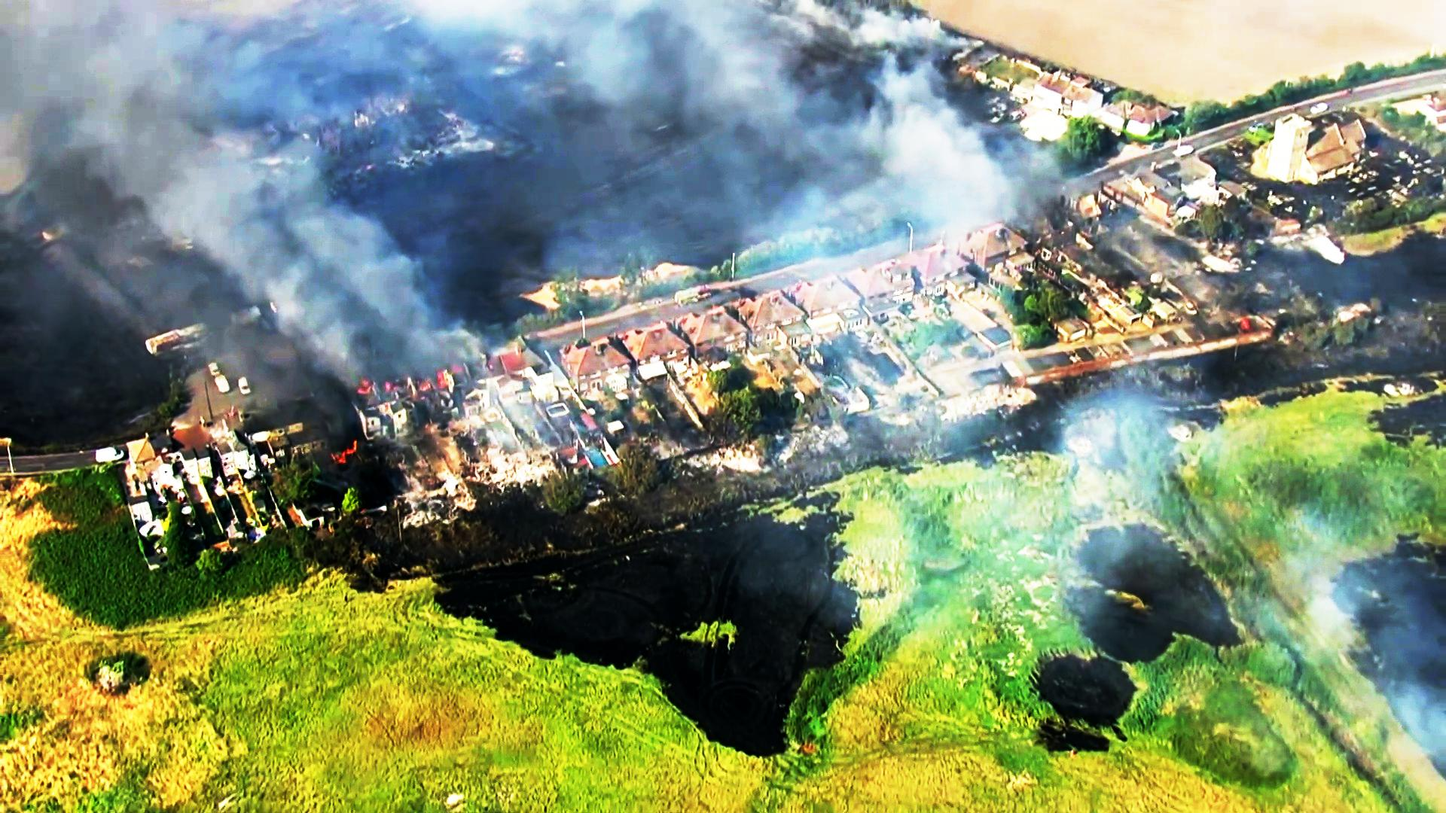smoke: (177, 165, 369, 343), (0, 0, 147, 168), (859, 87, 1020, 235)
